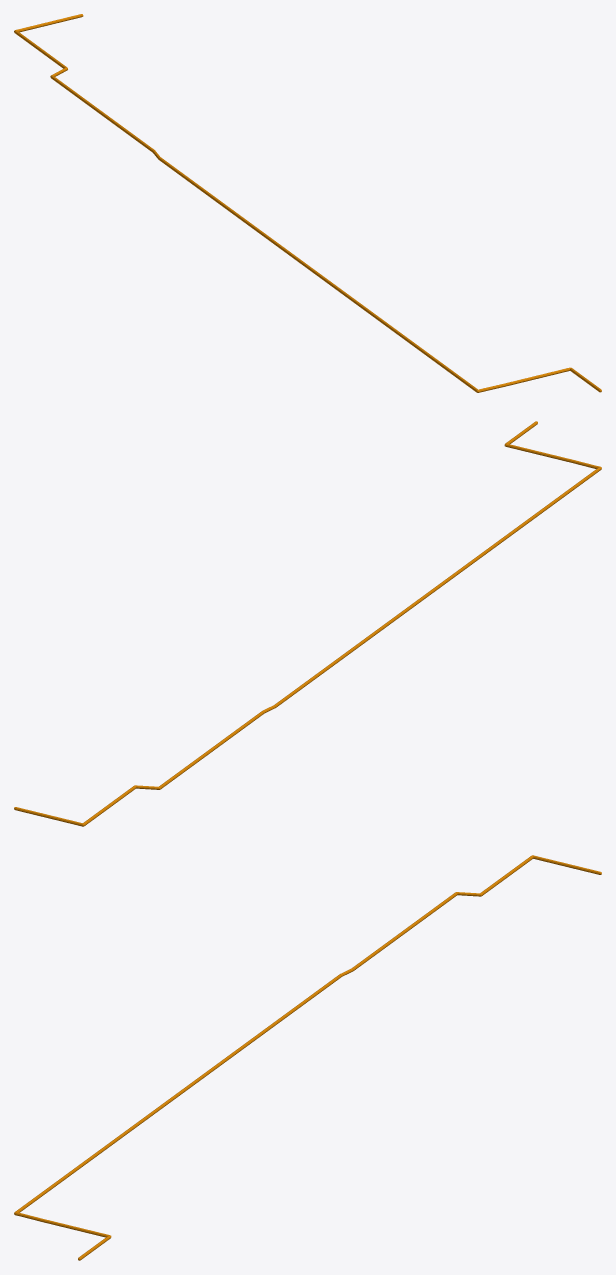
The picture shows the model from 3 angles, top to bottom: view 1: azimuth 30°, elevation 25°; view 2: azimuth 150°, elevation 25°; view 3: azimuth 330°, elevation 25°; orthographic projection. The views are drawn at different scales.
Size of the model in its own units: 649 by 20 by 6076.
